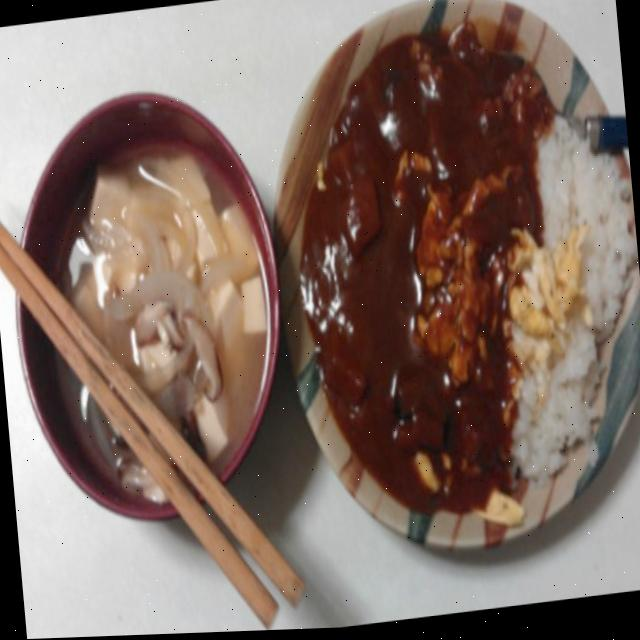汤锅炖物: (0, 19, 296, 518)
牛肉菜式: (258, 0, 640, 605)
